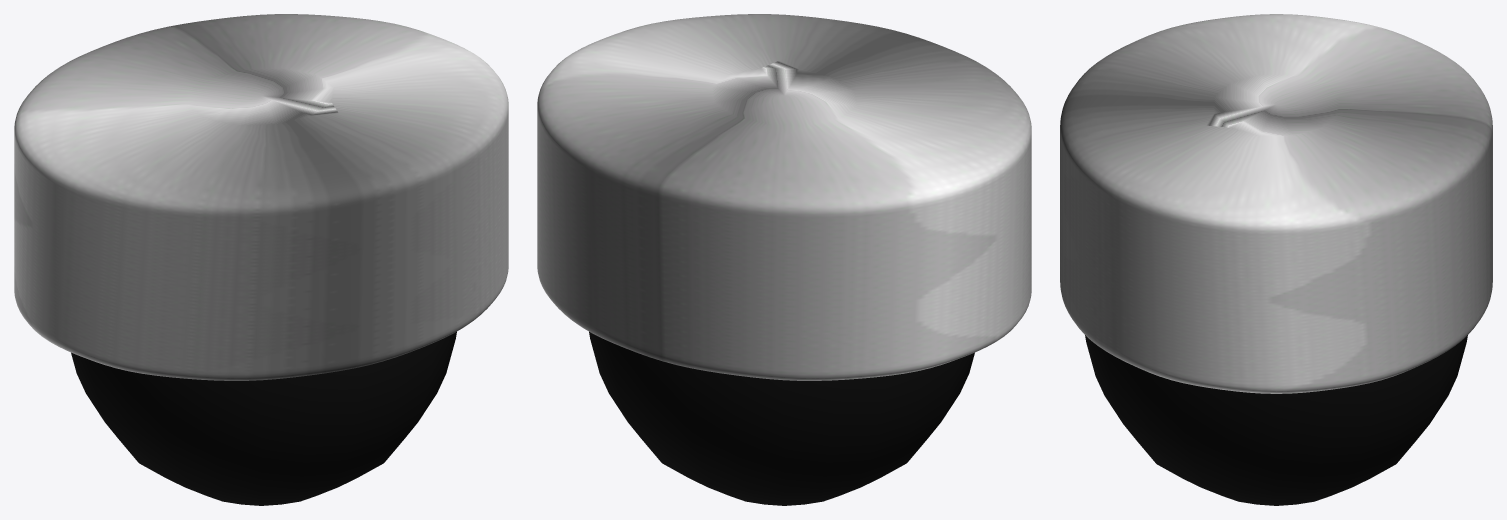
File: BBTimesAsset_SecurityCamera.obj
3 views of the same model, side by side, from view 1: azimuth 30°, elevation 25°; view 2: azimuth 150°, elevation 25°; view 3: azimuth 270°, elevation 25° (orthographic). The views are drawn at different scales.
Visible parts, largest first — view 1: mesh01, mesh02; view 2: mesh01, mesh02; view 3: mesh01, mesh02.
Boxes of the visible parts, x1,y1,x2,y2 form: mesh01: (14, 14, 508, 380); mesh02: (71, 331, 456, 505); mesh01: (537, 14, 1031, 380); mesh02: (589, 331, 974, 505); mesh01: (1060, 14, 1492, 393); mesh02: (1085, 335, 1467, 505).
Bounding box in the file's own units: 97.34 × 82.5 × 84.2.
